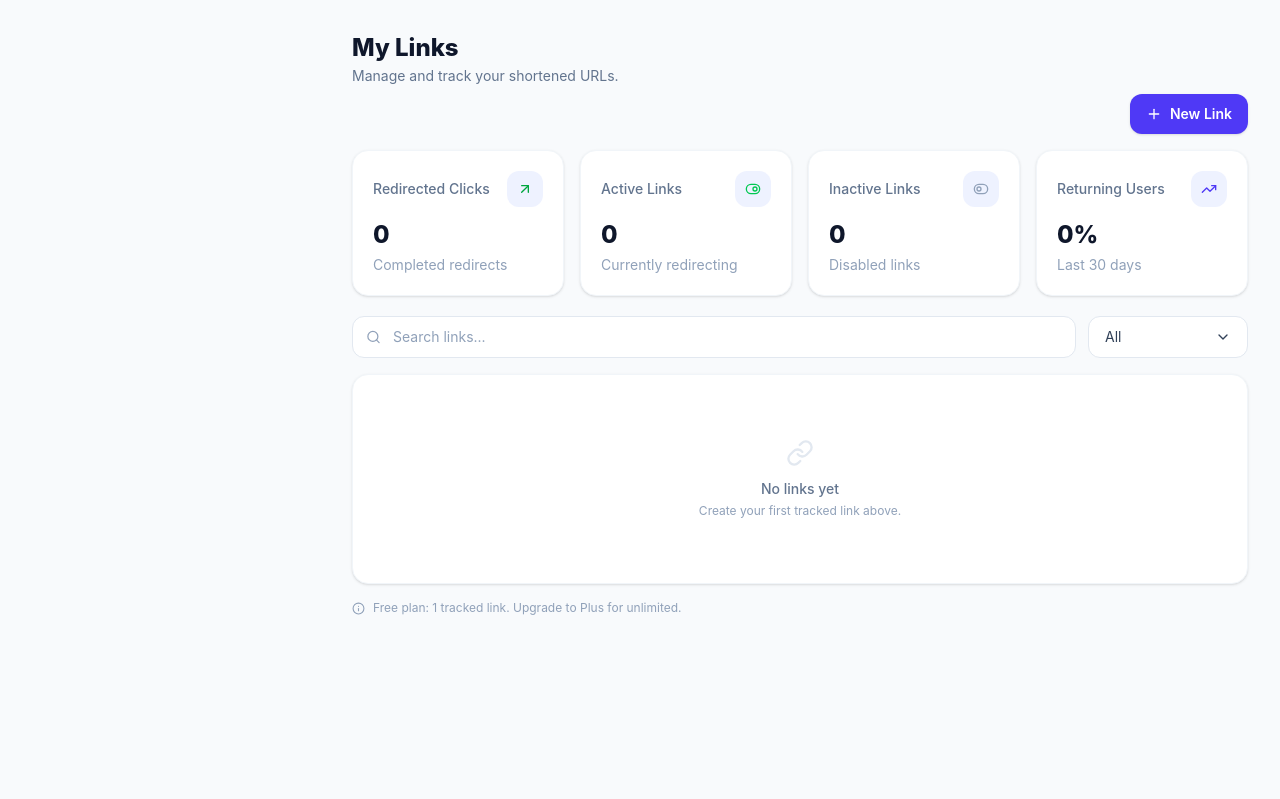
Test: Dashboard - create-link flow › a valid URL is submitted, then the form closes and the list refreshes
Expected: the text "No links yet" is shown, [761,480,839,497]
Click the button "New Link". click: x=1189, y=114
box: [1130,94,1248,134]
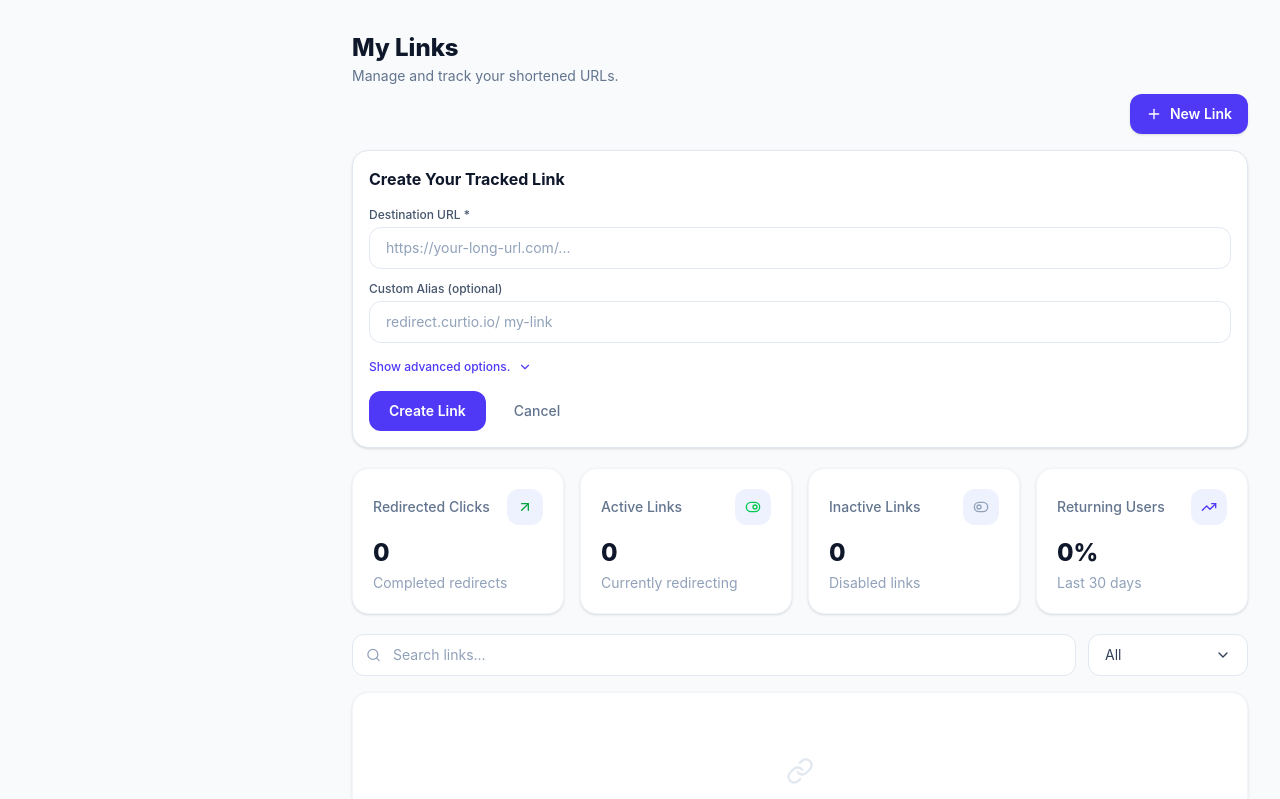
Type "https://example.com/page" into the field with placeholder "https://your-long-url.com/...". click: x=800, y=248
box: [369,227,1231,269]
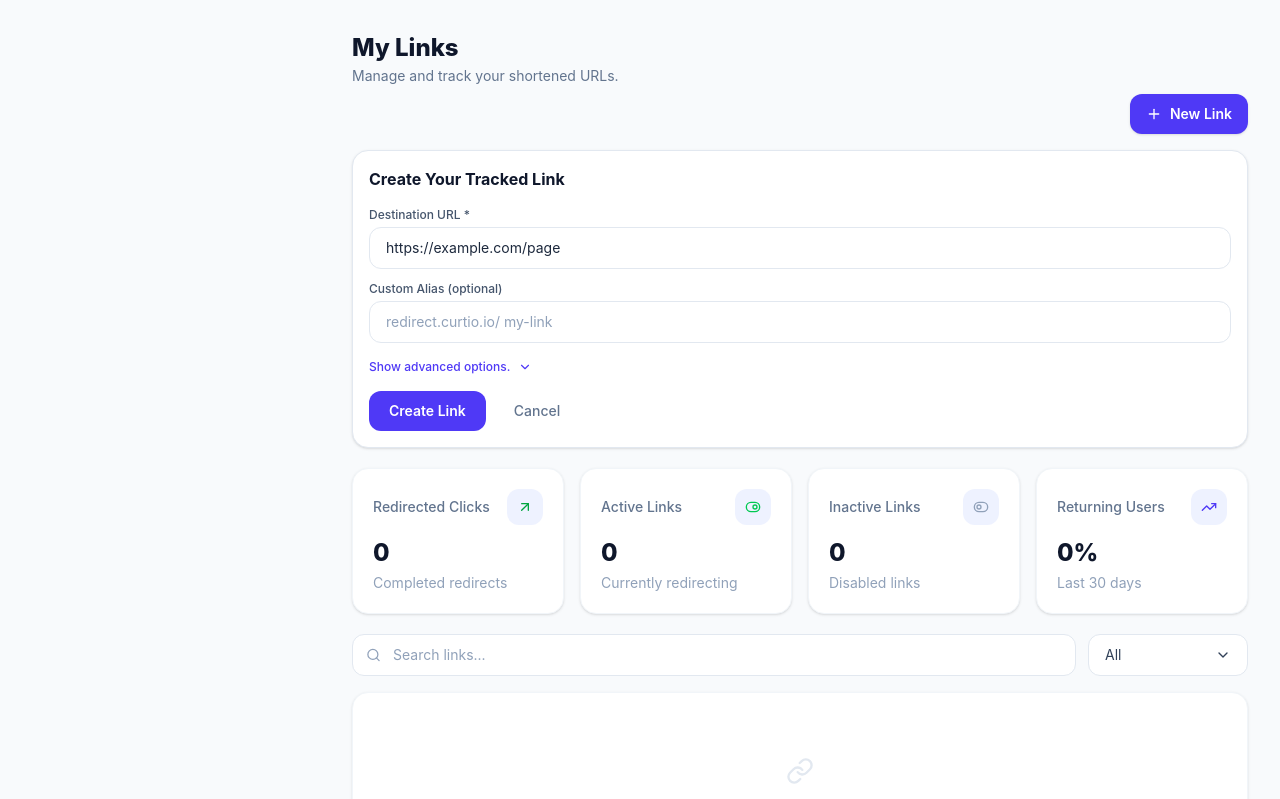
Click the button "Create Link". click: x=427, y=411
box: [369,391,486,431]
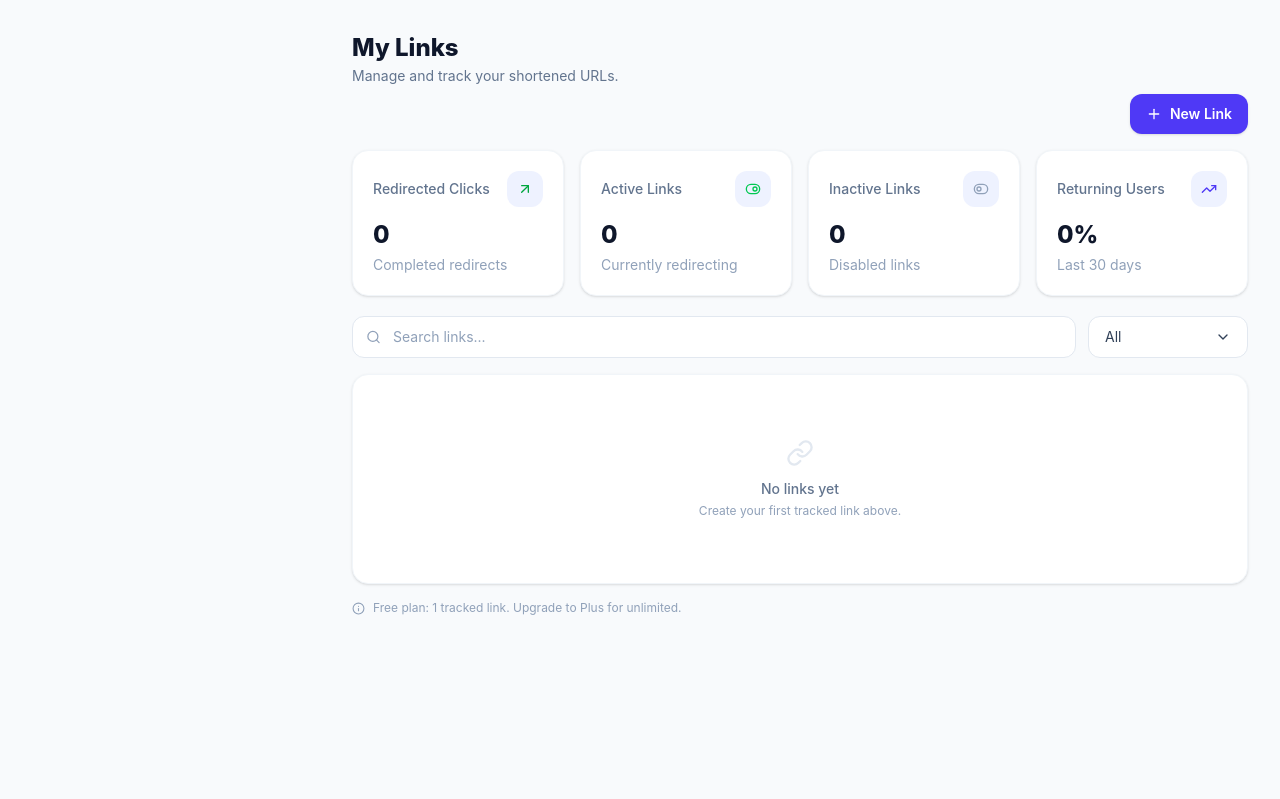
Result: the heading "Create Your Tracked Link" is gone
